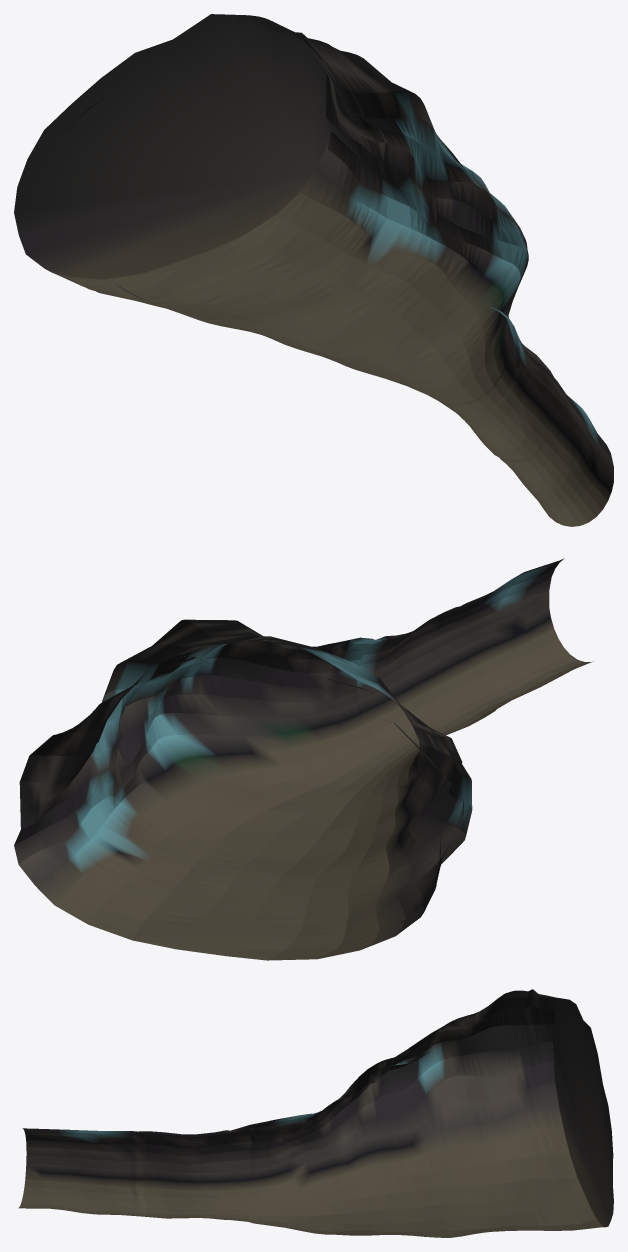
The model's file is cave_glasswyrm_cavern_shell_lod1.glb.
The picture shows the model from 3 angles, top to bottom: view 1: azimuth 30°, elevation 25°; view 2: azimuth 150°, elevation 25°; view 3: azimuth 270°, elevation 25°; orthographic projection. The views are drawn at different scales.
Parts seen in each view (by area): view 1: geometry_0; view 2: geometry_0; view 3: geometry_0.
Part boxes in pixels (x1=…): geometry_0: x1=14, y1=14, x2=613, y2=526; geometry_0: x1=14, y1=558, x2=593, y2=960; geometry_0: x1=18, y1=989, x2=613, y2=1237.
Size of the model in its own units: 102 by 63.29 by 180.
